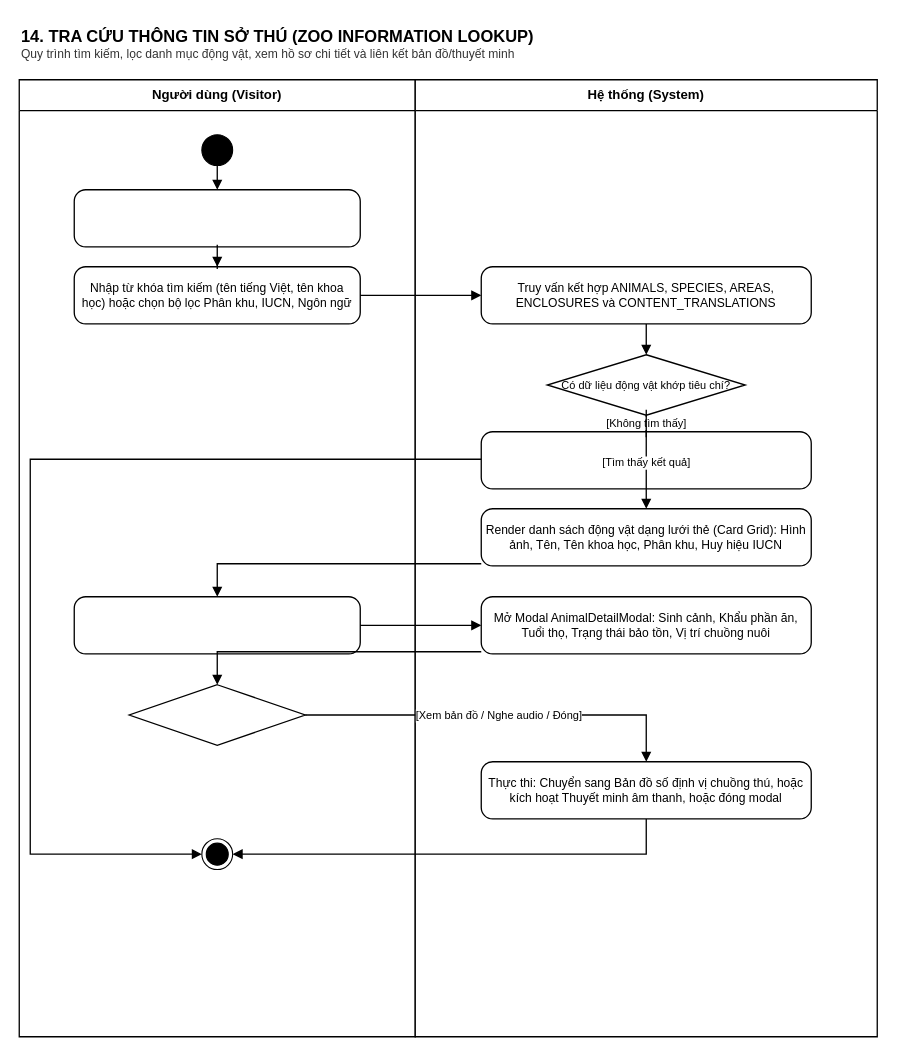
Some shapes in this 898 by 1056 pixel diagram are drawn without their labels. The box of each missing label's shape, as (x1, y1, x2, y2) in pixels:
Hiển thị giao diện 'Không tìm thấy động vật phù hợp' kèm gợi ý từ khóa: (480, 431, 811, 489)
Khách chọn hành động liên kết tiếp theo?: (128, 684, 305, 745)
Khách mở tab 'Động vật & Tra cứu' trên ứng dụng ZooGuide: (73, 189, 360, 247)
Khách nhấn chọn một thẻ động vật cụ thể để xem chi tiết: (73, 596, 360, 654)
